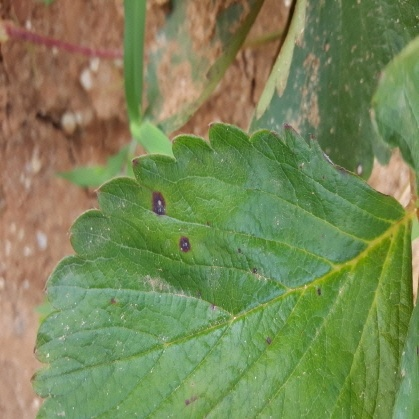Leaf_Spot: (5, 122, 407, 418), (0, 0, 393, 183)
